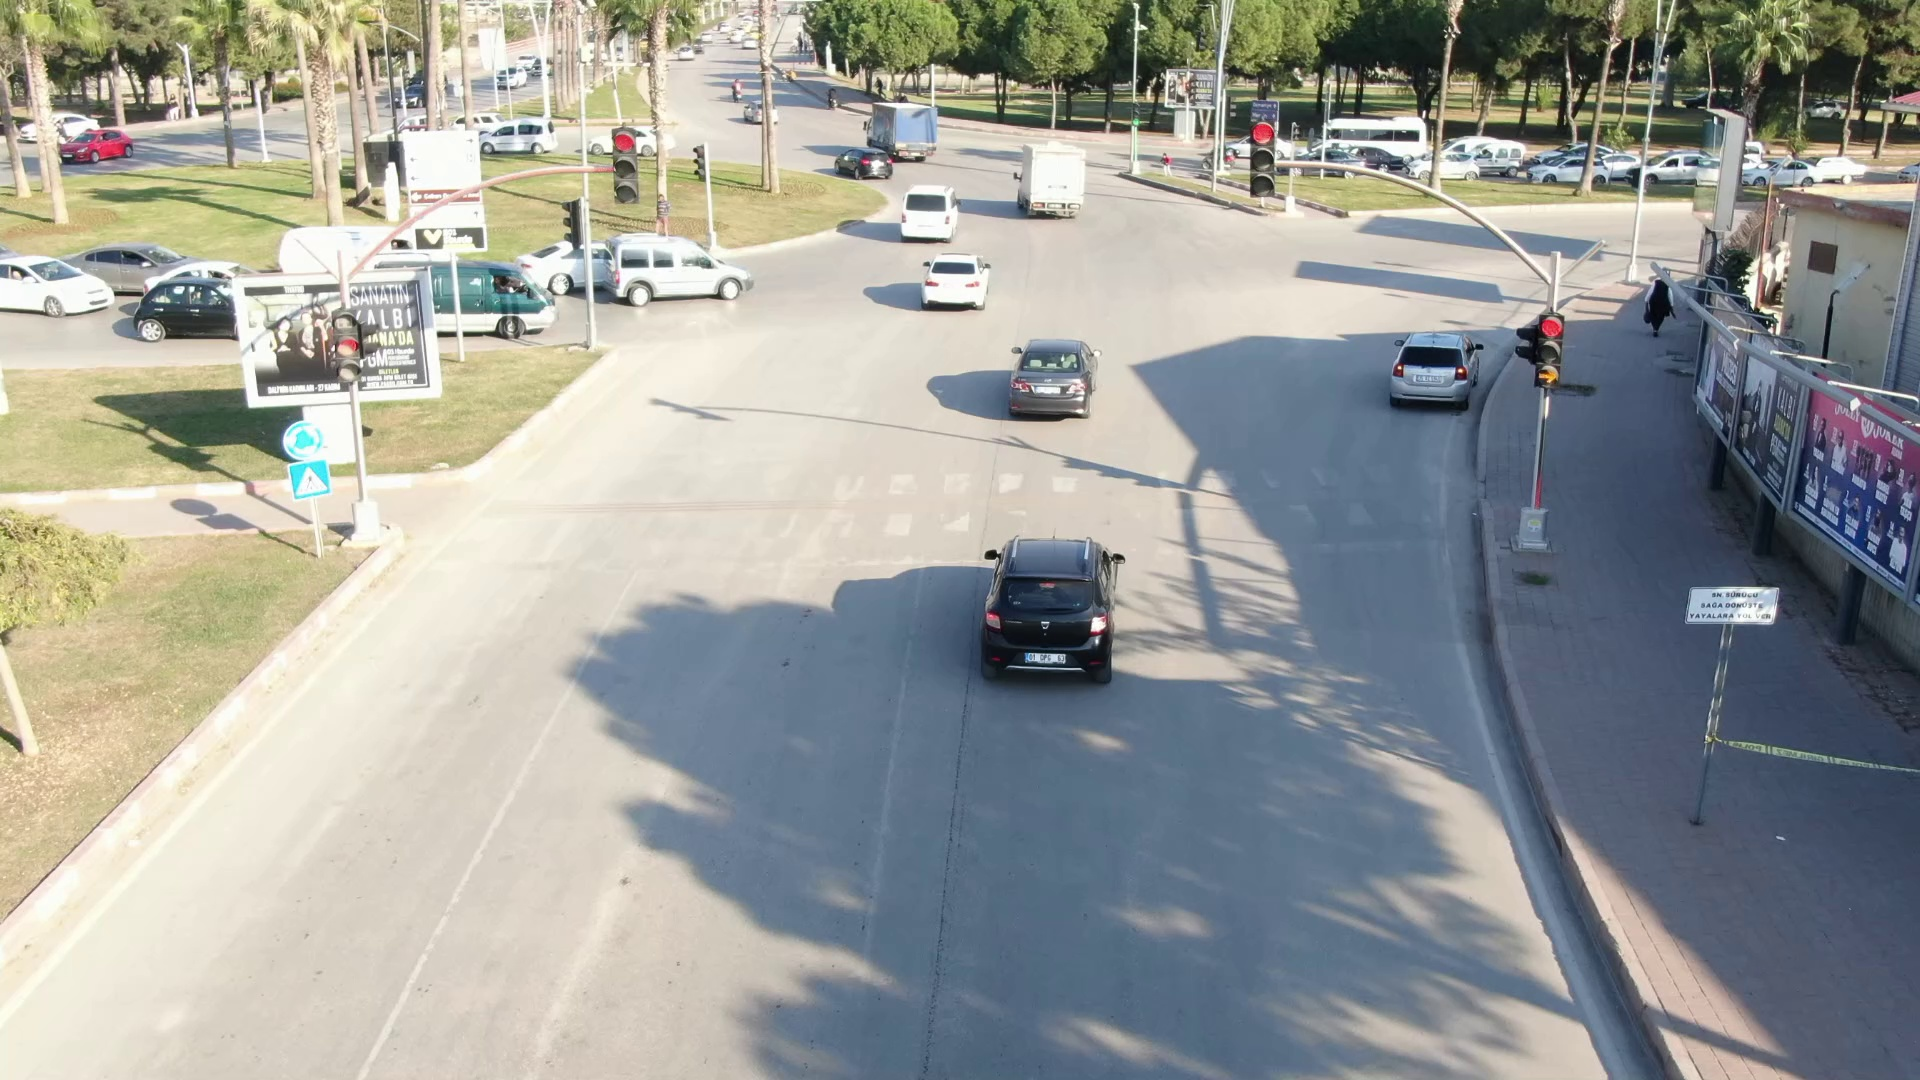car: (944, 510, 1140, 708), (981, 311, 1115, 437), (596, 226, 763, 316), (1380, 322, 1488, 421), (1, 249, 125, 328), (1002, 131, 1095, 229), (859, 97, 956, 167), (913, 245, 998, 319), (886, 176, 971, 247), (827, 141, 900, 186)
person: (1629, 259, 1682, 339)
